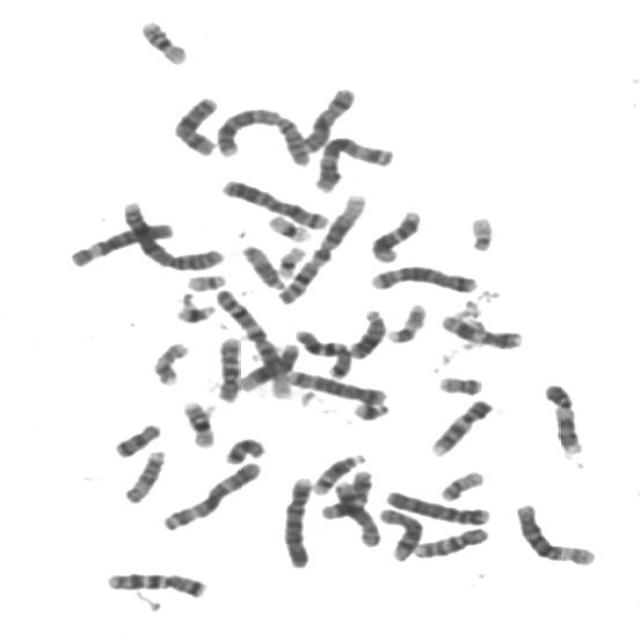A1: (271, 187, 371, 306), (210, 283, 298, 399)
A2: (117, 194, 229, 272), (210, 101, 315, 167)
A3: (156, 455, 266, 532), (308, 130, 398, 192)
B4: (379, 484, 494, 526), (277, 471, 317, 569)
B5: (282, 364, 391, 405), (364, 259, 481, 294)
C10: (408, 521, 493, 560), (211, 330, 246, 403)
C11: (434, 308, 528, 351), (314, 464, 376, 521)
C12: (233, 337, 304, 392), (366, 204, 426, 263)
C6: (510, 497, 600, 567), (62, 215, 178, 269)
C7: (101, 564, 210, 600), (289, 322, 356, 380)
C8: (329, 475, 385, 548), (372, 502, 427, 562)
C9: (426, 393, 498, 458), (538, 377, 587, 456)
D13: (210, 179, 330, 230), (343, 303, 390, 360)
D14: (307, 446, 370, 496)
D15: (119, 444, 170, 506), (236, 239, 288, 291)
E16: (134, 13, 192, 66), (177, 394, 220, 449)
E17: (382, 297, 430, 344), (148, 336, 192, 387)
E18: (109, 416, 166, 459), (219, 430, 269, 466)
F19: (264, 208, 316, 244), (274, 240, 310, 279)
F20: (435, 464, 488, 503), (432, 369, 486, 397)
G21: (171, 297, 219, 324), (347, 396, 394, 422)
G22: (462, 208, 498, 252), (181, 268, 229, 292)
X: (296, 81, 360, 154), (167, 90, 223, 158)
